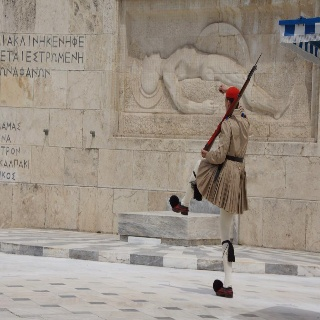rifle: (203, 53, 263, 151)
